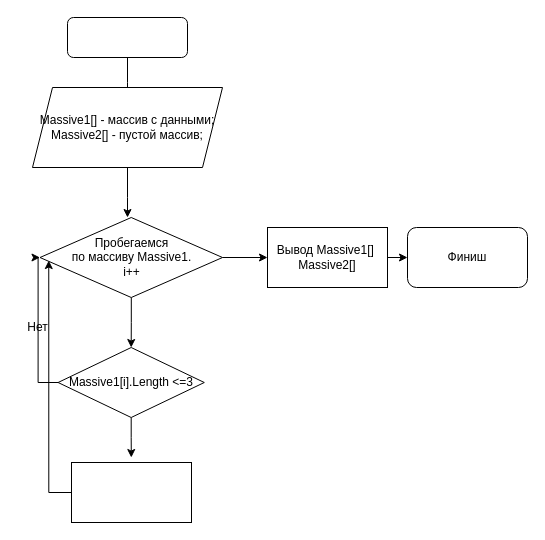
The diagram is 545 pixels wide and 540 high, and some of its shapes have lost their labels. The centre of each missing label's shape, as x and y in pixels:
"Start" belongs at (x=127, y=37).
"Сохранение в Massive2" belongs at (x=131, y=492).
